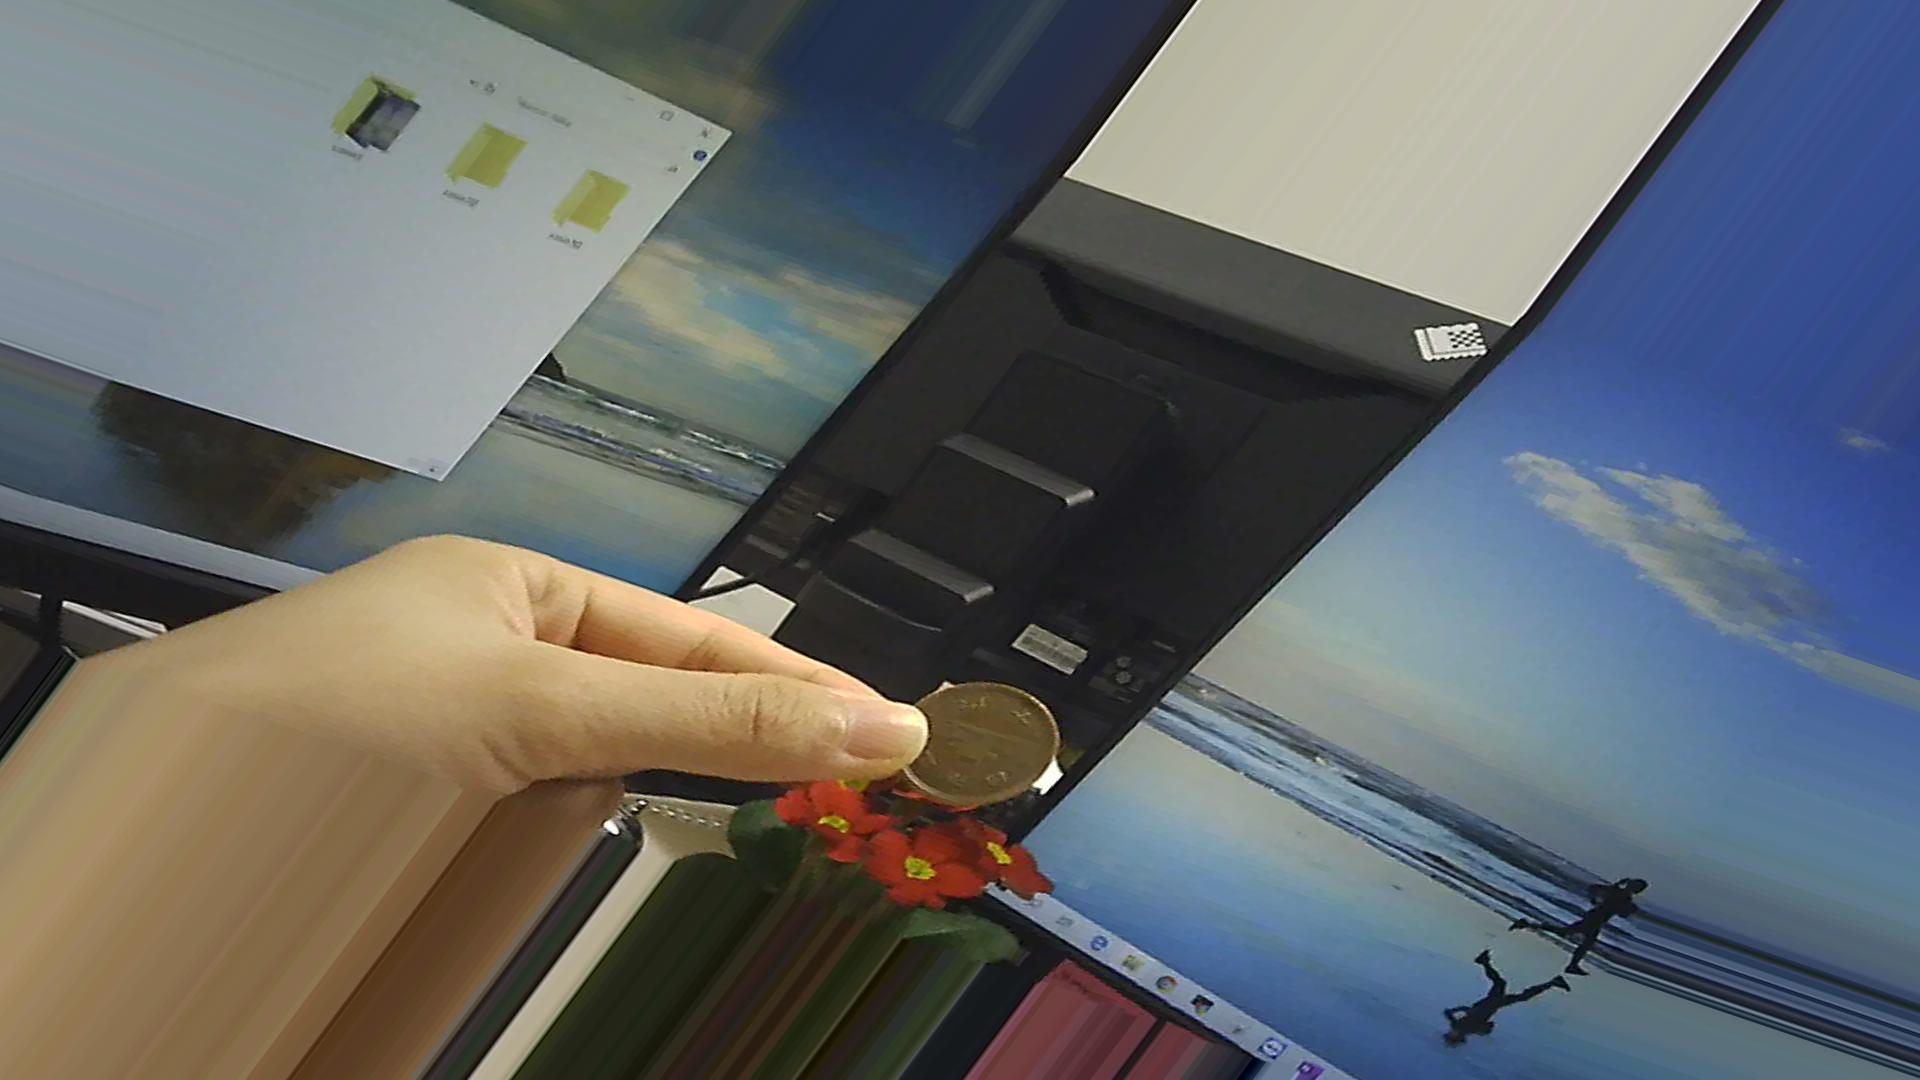10 Yen: (884, 675, 1060, 810)
